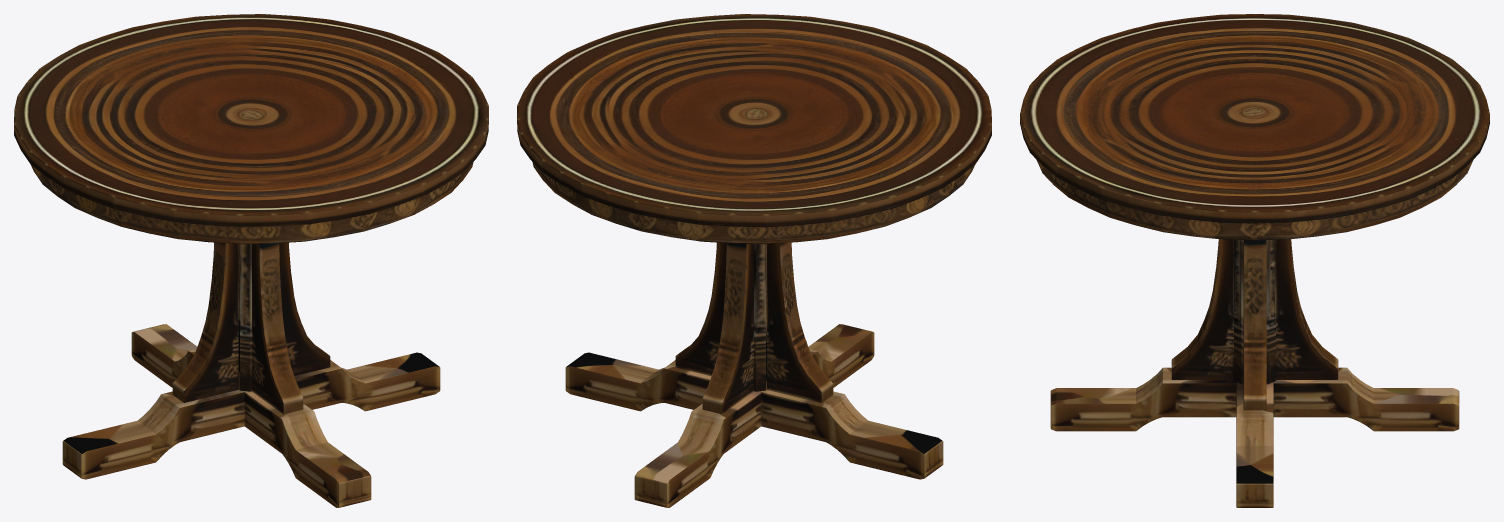
The model's file is edited_mesh.glb.
The picture shows the model from 3 angles, left to right: view 1: azimuth 30°, elevation 25°; view 2: azimuth 150°, elevation 25°; view 3: azimuth 270°, elevation 25°; orthographic projection.
Visible parts, largest first — view 1: normalized_model.obj; view 2: normalized_model.obj; view 3: normalized_model.obj.
Part boxes in pixels (x1,y1,x2,y2): normalized_model.obj: (14,14,488,507); normalized_model.obj: (517,14,991,507); normalized_model.obj: (1020,14,1489,507).
Size of the model in its own units: 1.62 by 1.19 by 1.62.
Materials: 1 (1 with a texture image).
